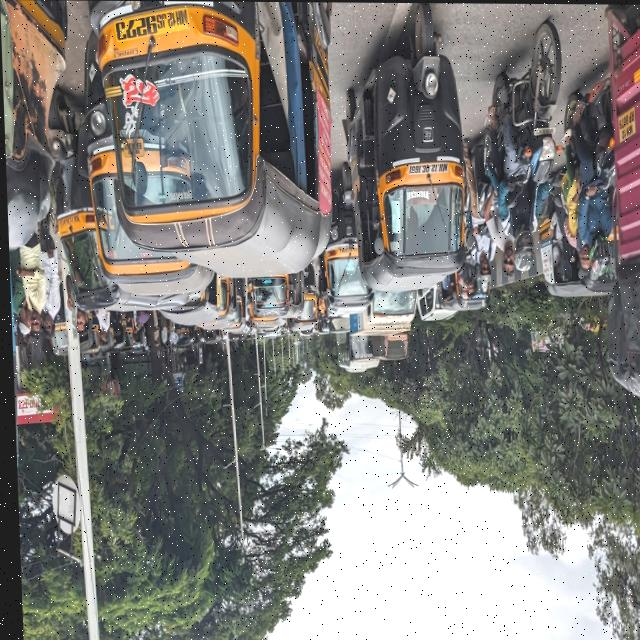plate: (113, 4, 190, 45), (405, 160, 449, 176), (57, 211, 80, 231), (532, 125, 556, 136), (337, 245, 354, 255)
